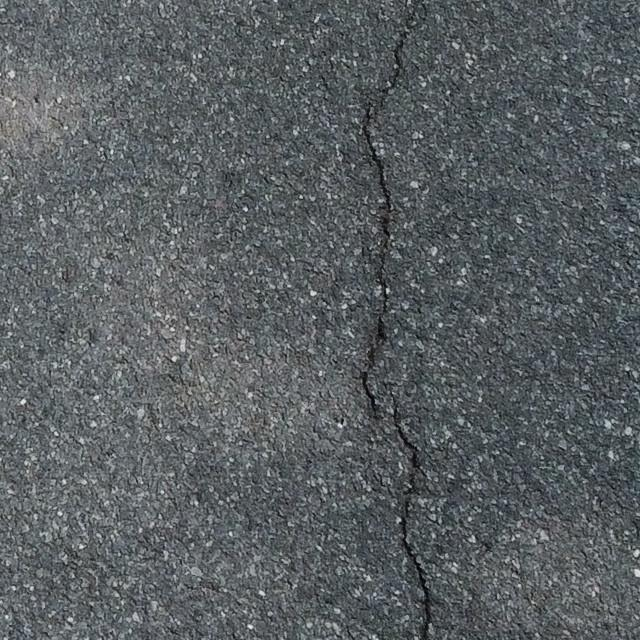LongitudinalCrack: (356, 8, 415, 414), (392, 399, 431, 640)
